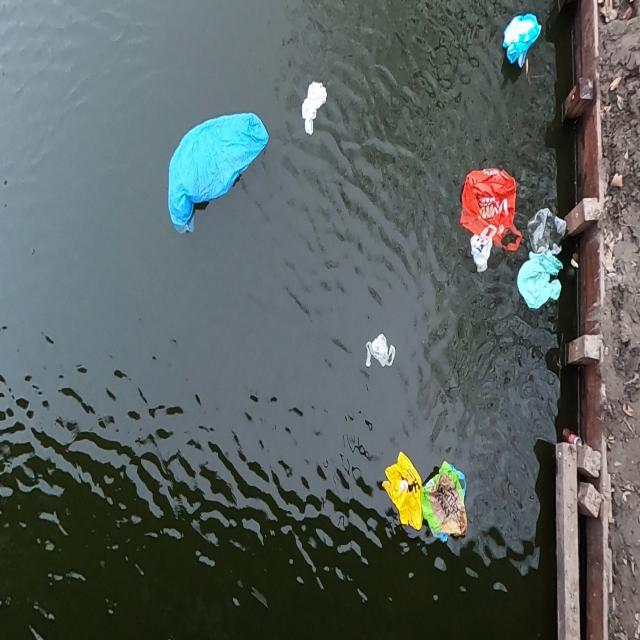Sac plastique: (158, 111, 274, 246), (452, 155, 526, 256), (423, 450, 469, 554), (379, 446, 425, 546), (516, 255, 568, 321), (500, 11, 546, 81), (297, 74, 332, 139), (526, 206, 570, 254), (466, 232, 498, 285), (361, 330, 397, 377)
